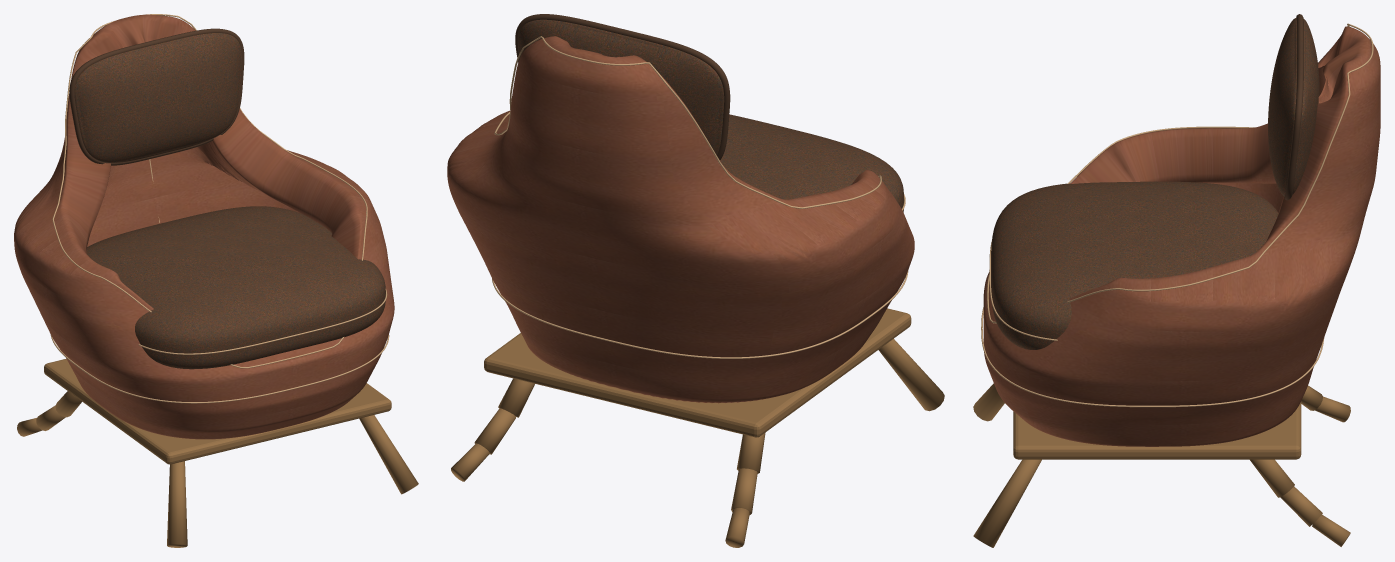
File: noval-arm-v2.glb
3 renders of one model, left to right at view 1: azimuth 30°, elevation 25°; view 2: azimuth 150°, elevation 25°; view 3: azimuth 270°, elevation 25°, orthographic. The views are drawn at different scales.
Parts seen in each view (by area): view 1: shell, seat, head, ring, head_welt, legf-1, legf1, stitch_rim, stitch_low, stitch_seat; view 2: shell, ring, seat, head, head_welt, legf-1, stitch_rim, stitch_low, legb11, legb-11, legb10, legb-10 (+2 smaller); view 3: shell, seat, ring, head, legf1, stitch_rim, head_welt, stitch_low, legb10, legb11, legf-1, legb12 (+1 smaller).
Part boxes in pixels (box(x1,y1,x2,y2)): shell: box(14, 14, 394, 439); seat: box(86, 206, 385, 369); head: box(74, 33, 241, 162); ring: box(44, 359, 391, 464); head_welt: box(69, 28, 244, 165); legf-1: box(167, 461, 187, 547); legf1: box(359, 415, 418, 494); stitch_rim: box(52, 14, 367, 368); stitch_low: box(50, 335, 389, 403); stitch_seat: box(138, 289, 387, 354); shell: box(447, 36, 914, 403); ring: box(484, 308, 911, 437); seat: box(720, 114, 903, 212); head: box(518, 19, 724, 155); head_welt: box(515, 14, 730, 159); legf-1: box(878, 338, 944, 411); stitch_rim: box(494, 36, 881, 208); stitch_low: box(492, 270, 908, 358); legb11: box(474, 408, 515, 454); legb-11: box(731, 468, 757, 514); legb10: box(498, 378, 534, 417); legb-10: box(737, 432, 765, 473); shell: box(983, 26, 1380, 446); seat: box(991, 181, 1278, 349); ring: box(1013, 401, 1301, 459); head: box(1268, 18, 1319, 196); legf1: box(973, 459, 1041, 547); stitch_rim: box(987, 23, 1373, 323); head_welt: box(1284, 14, 1303, 200); stitch_low: box(981, 307, 1324, 407); legb10: box(1250, 459, 1294, 497); legb11: box(1280, 486, 1322, 526); legf-1: box(973, 383, 1004, 421); legb12: box(1312, 514, 1350, 546).
Size of the model in its own units: 0.8584 by 0.9759 by 0.8205.
5 materials, 3 textured.
